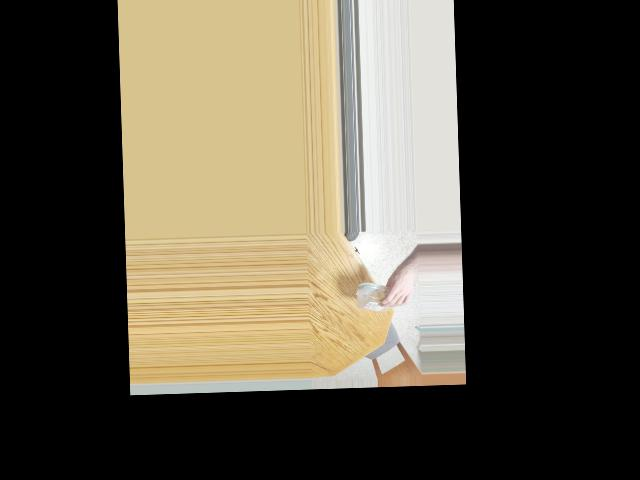cheese: (363, 278, 402, 312)
